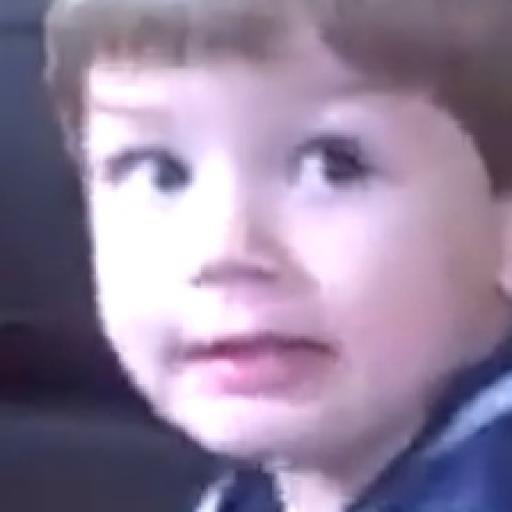Autism: (68, 28, 512, 462)
